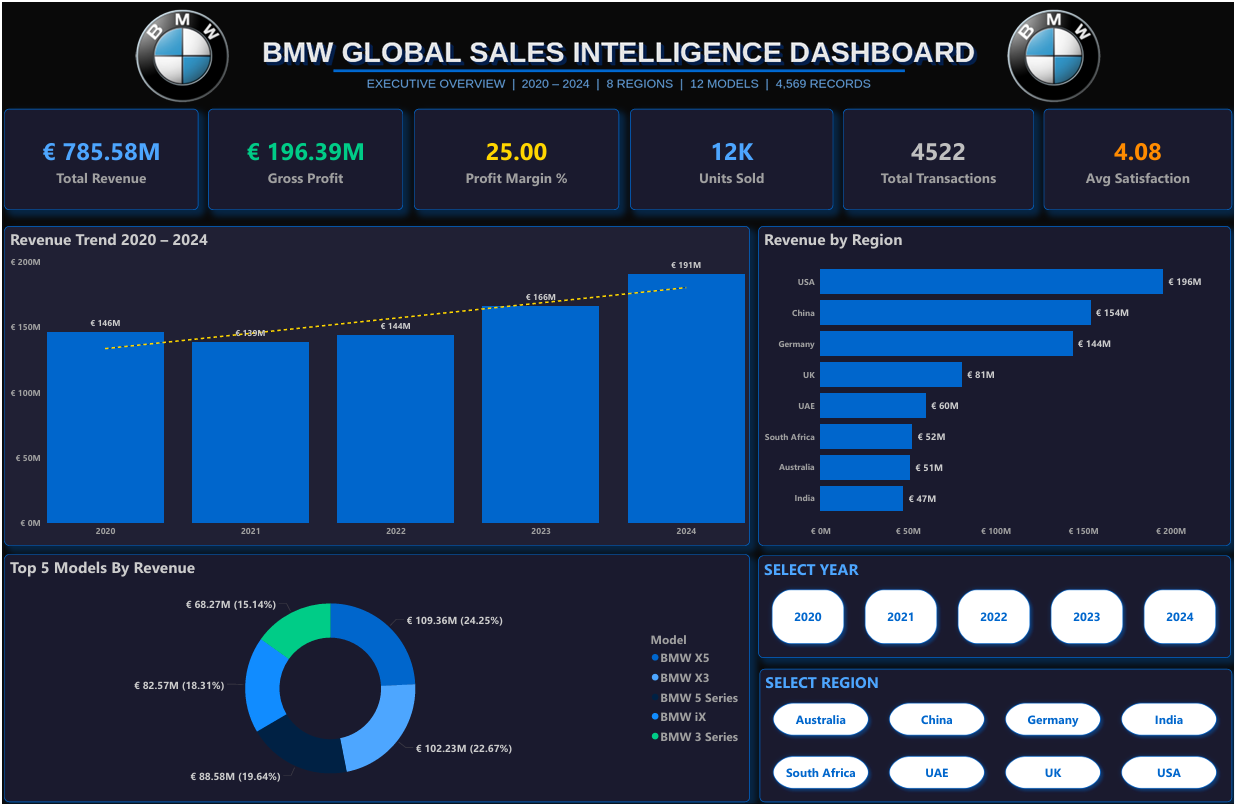

What the dashboard file says about the page in this screenshot:
{"tool":"powerbi","page":{"name":"Executive Overview","canvas":[1920,1250],"ordinal":0},"visuals":[{"type":"card","title":"Total Revenue(EUR)","fields":{"Values":["_Measures.Total Revenue"]},"box":[2.1,166.2,302.5,157.6],"z":0},{"type":"card","title":"Total Revenue(EUR)","fields":{"Values":["_Measures.Gross Profit"]},"box":[319.5,166.2,304.6,157.6],"z":1000},{"type":"card","title":"Total Revenue(EUR)","fields":{"Values":["Sum(_Measures.Total Units Sold)"]},"box":[977.8,166.2,317.4,157.6],"z":2000},{"type":"card","title":"Total Revenue(EUR)","fields":{"Values":["_Measures.Profit Margin %"]},"box":[641.2,166.2,319.5,157.6],"z":3000},{"type":"card","title":"Total Revenue(EUR)","fields":{"Values":["_Measures.Avg Satisfaction"]},"box":[1623.2,166.2,294,157.6],"z":4000},{"type":"card","title":"Total Revenue(EUR)","fields":{"Values":["_Measures.Total Transactions"]},"box":[1310.1,166.2,298.2,157.6],"z":5000},{"type":"clusteredColumnChart","title":"Revenue Trend 2020 – 2024","fields":{"Category":["DateTable.Year_Num"],"Y":["_Measures.Total Revenue"]},"box":[2.1,349.4,1163.1,498.5],"z":6000},{"type":"clusteredBarChart","title":"Revenue by Region","fields":{"Category":["BMW_Sales_Phase4_Ready.Region"],"Y":["_Measures.Total Revenue"]},"box":[1178,349.4,737.1,498.5],"z":7000},{"type":"donutChart","title":"Top 5 Models By Revenue","fields":{"Category":["BMW_Sales_Phase4_Ready.Model"],"Y":["_Measures.Total Revenue"]},"box":[2.1,860.6,1163.1,387.7],"z":8000},{"type":"advancedSlicerVisual","title":"SELECT YEAR","fields":{"Values":["DateTable.Year_Num"]},"box":[1178,862.7,737.1,159.8],"z":9000},{"type":"advancedSlicerVisual","title":"SELECT REGION","fields":{"Values":["BMW_Sales_Phase4_Ready.Region"]},"box":[1180.1,1039.5,737.1,208.8],"z":10000},{"type":"image","box":[2.1,0,1917.2,202.4],"z":11000},{"type":"image","box":[202.4,0,155.5,166.2],"z":12000},{"type":"image","box":[1561.4,0,155.5,166.2],"z":13000}]}

Visuals, with their boxes in screenshot pixels (x1, y1, x2, y2), scaled from the page's 1920x1250 canvas onto the 1237x805 screenshot:
"Total Revenue(EUR)" card: select_region(1, 107, 196, 209)
"Total Revenue(EUR)" card: select_region(206, 107, 402, 209)
"Total Revenue(EUR)" card: select_region(630, 107, 834, 209)
"Total Revenue(EUR)" card: select_region(413, 107, 619, 209)
"Total Revenue(EUR)" card: select_region(1046, 107, 1235, 209)
"Total Revenue(EUR)" card: select_region(844, 107, 1036, 209)
"Revenue Trend 2020 – 2024" clusteredColumnChart: select_region(1, 225, 751, 546)
"Revenue by Region" clusteredBarChart: select_region(759, 225, 1234, 546)
"Top 5 Models By Revenue" donutChart: select_region(1, 554, 751, 804)
"SELECT YEAR" advancedSlicerVisual: select_region(759, 556, 1234, 658)
"SELECT REGION" advancedSlicerVisual: select_region(760, 669, 1235, 804)
image: select_region(1, 0, 1236, 130)
image: select_region(130, 0, 231, 107)
image: select_region(1006, 0, 1106, 107)
